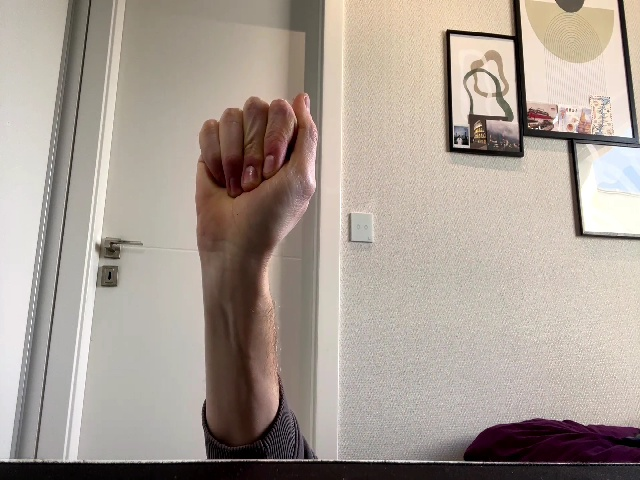A: (195, 92, 318, 246)
